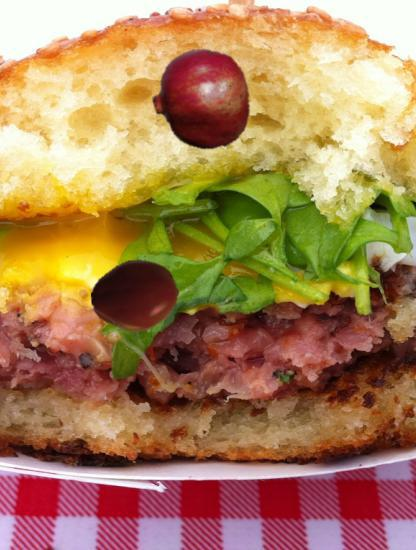Pomegranate: (150, 48, 255, 153)
Tomato: (91, 252, 180, 341)
